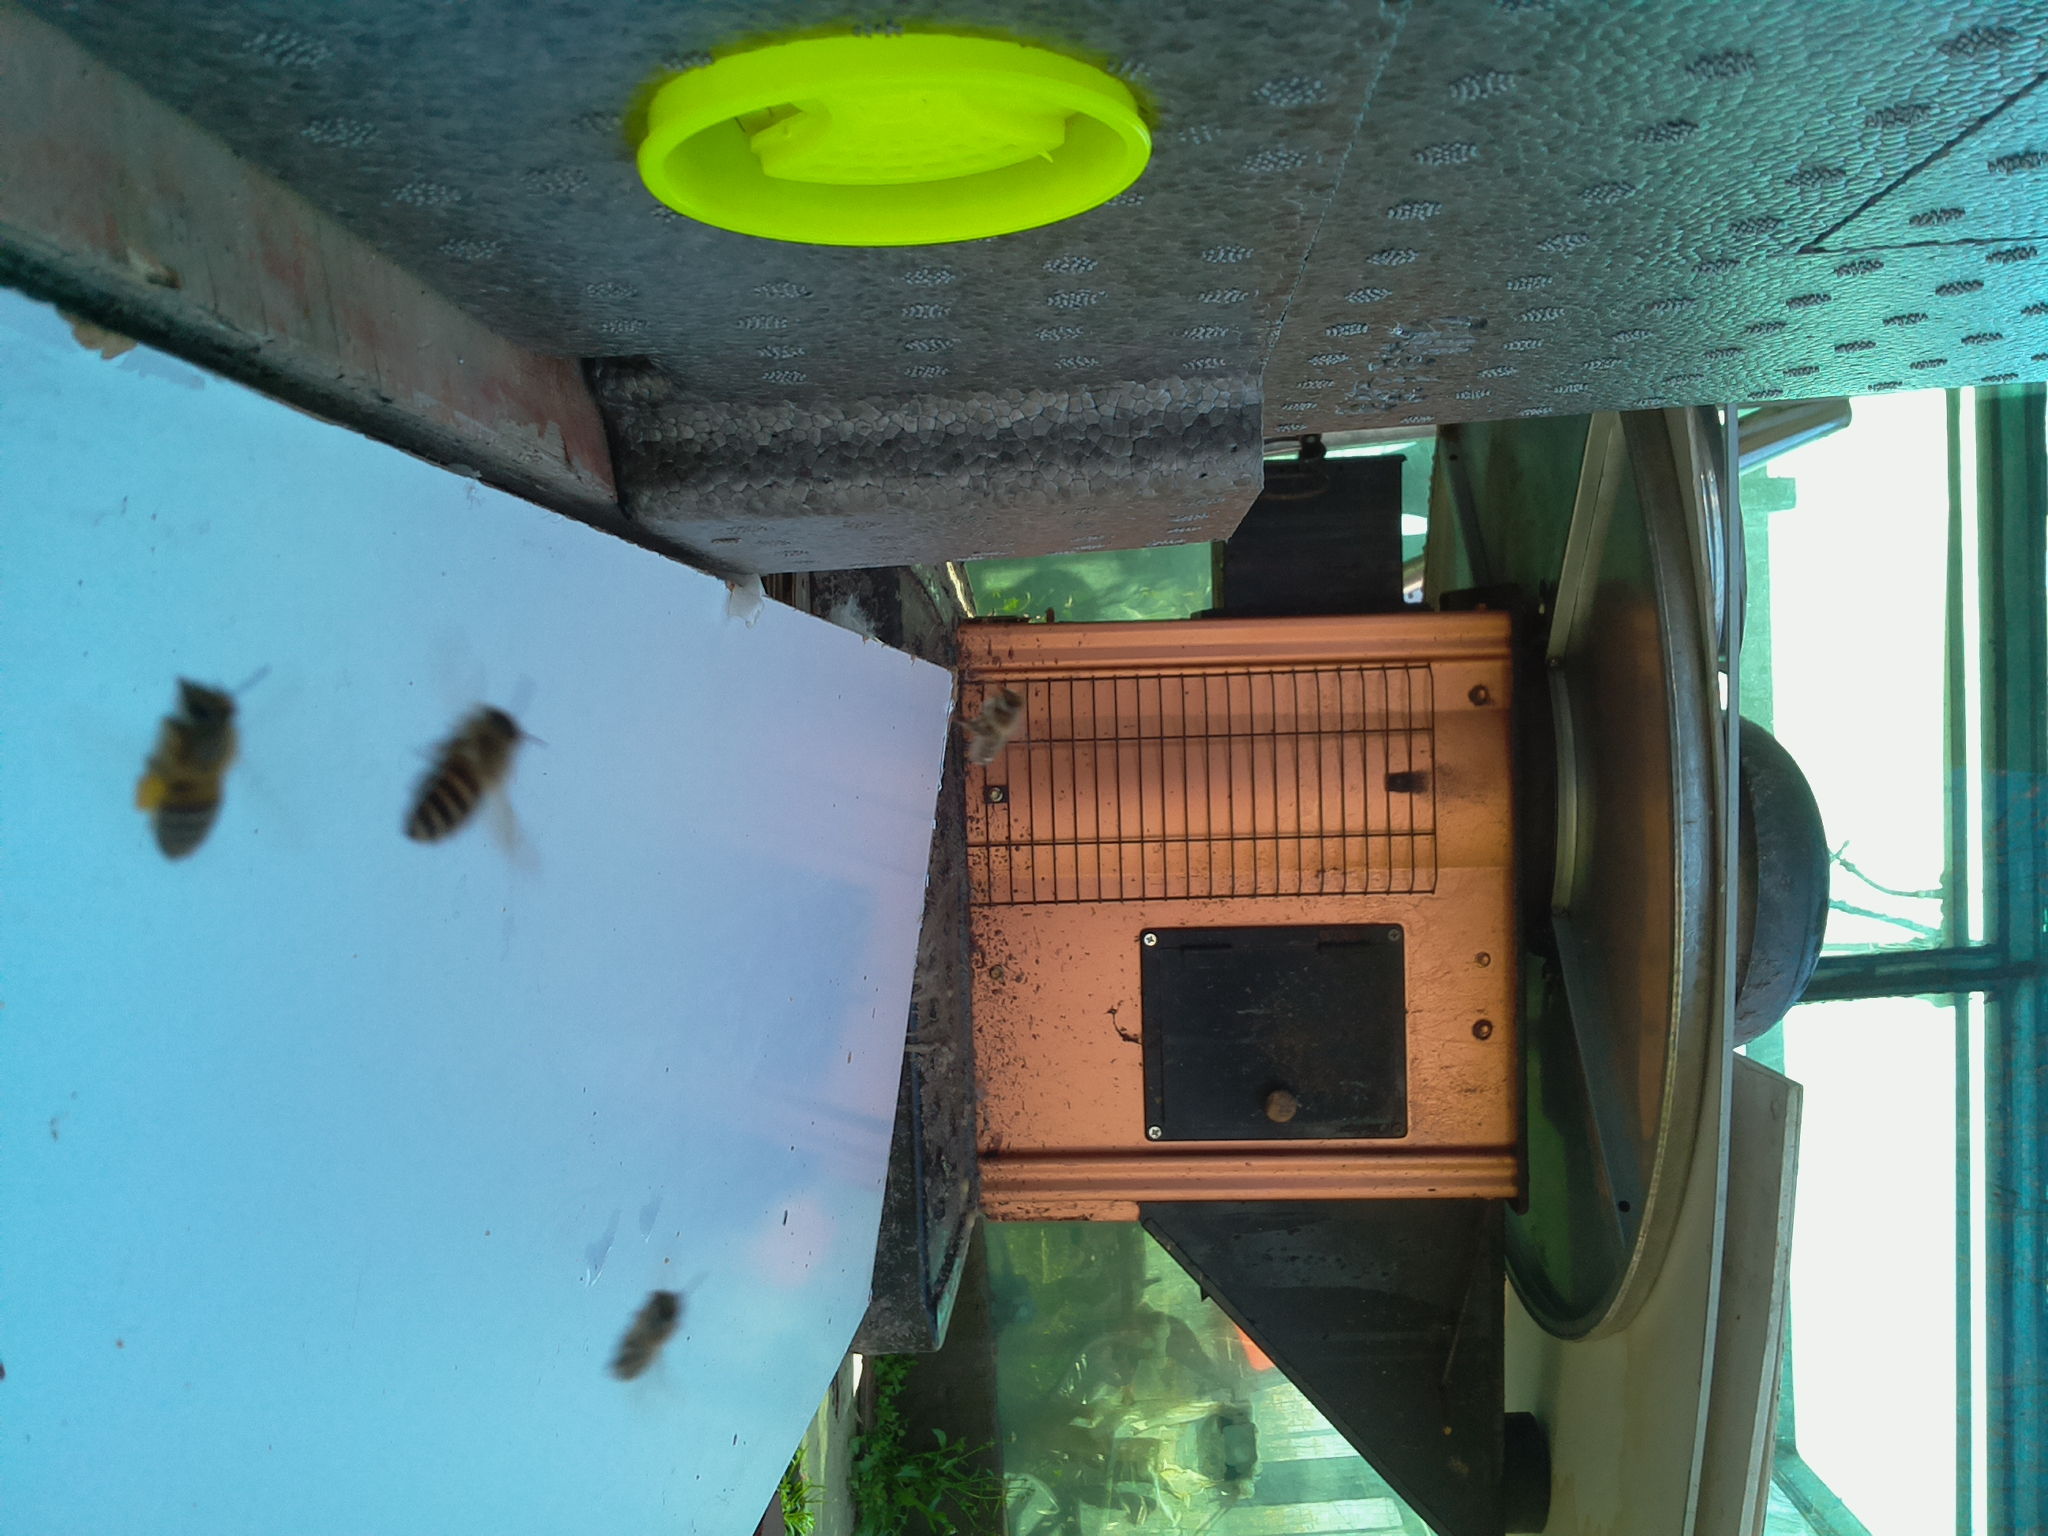bee: (390, 674, 539, 872), (131, 660, 265, 869), (598, 1262, 719, 1395), (956, 680, 1029, 770)
